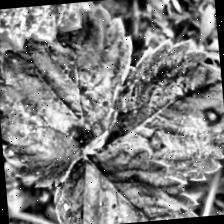Leaf Spot: (0, 1, 145, 191), (90, 32, 224, 192), (48, 137, 206, 224)
